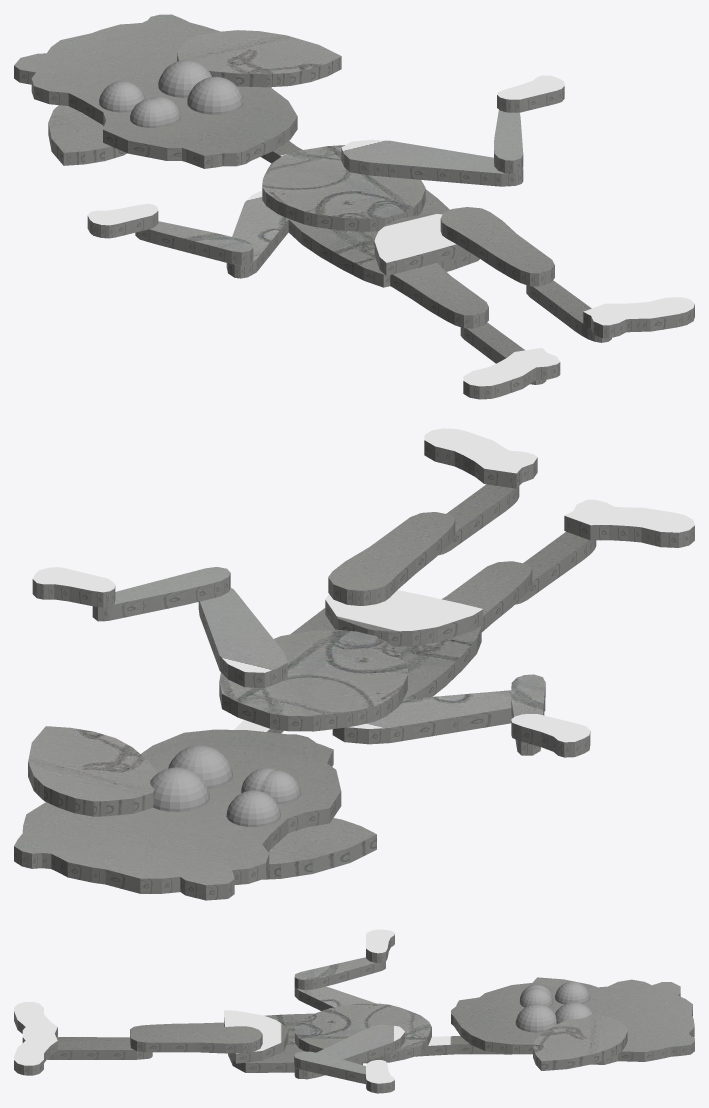
Rendered from Personas_Model.fbx.
3 views of the same model, one above another, from view 1: azimuth 30°, elevation 25°; view 2: azimuth 150°, elevation 25°; view 3: azimuth 270°, elevation 25° (orthographic). The views are drawn at different scales.
Visible parts, largest first — view 1: Cabeza_01, Torso_Upper, Coleta_R, Arm_R_Upper, Leg_R_Upper, Torso_Mid, Torso_Low, Leg_L_Upper, Foot_R, Foot_L, Coleta_L, Arm_L_Low (+12 smaller); view 2: Cabeza_01, Torso_Upper, Coleta_R, Leg_R_Upper, Torso_Low, Cabeza_03, Arm_L_Upper, Arm_R_Upper, Foot_L, Coleta_L, Foot_R, Torso_Mid (+12 smaller); view 3: Cabeza_01, Torso_Upper, Coleta_R, Leg_R_Upper, Arm_R_Upper, Torso_Low, Arm_L_Low, Leg_R_Low, Torso_Mid, Foot_R, Arm_R_Low, Cabeza_02 (+13 smaller).
Part boxes in pixels (box(x1,y1,x2,y2)): Cabeza_01: box(14, 14, 283, 160); Torso_Upper: box(262, 145, 425, 231); Coleta_R: box(177, 30, 341, 87); Arm_R_Upper: box(341, 139, 523, 186); Leg_R_Upper: box(440, 207, 554, 286); Torso_Mid: box(288, 189, 479, 287); Torso_Low: box(374, 213, 470, 275); Leg_L_Upper: box(390, 263, 488, 328); Foot_R: box(583, 297, 694, 338); Foot_L: box(463, 348, 560, 399); Coleta_L: box(48, 105, 126, 165); Arm_L_Low: box(135, 221, 253, 265); Cabeza_01: box(14, 736, 341, 900); Torso_Upper: box(219, 629, 407, 731); Coleta_R: box(28, 726, 157, 816); Leg_R_Upper: box(328, 512, 455, 605); Torso_Low: box(325, 590, 483, 646); Cabeza_03: box(127, 733, 328, 833); Arm_L_Upper: box(332, 690, 545, 744); Arm_R_Upper: box(198, 588, 287, 687); Foot_L: box(564, 499, 694, 547); Coleta_L: box(262, 818, 376, 879); Foot_R: box(424, 428, 537, 488); Torso_Mid: box(290, 608, 481, 699); Cabeza_01: box(468, 979, 694, 1064); Torso_Upper: box(295, 1003, 431, 1063); Coleta_R: box(533, 1014, 627, 1070); Leg_R_Upper: box(130, 1026, 262, 1053); Arm_R_Upper: box(294, 1024, 405, 1079); Torso_Low: box(224, 1010, 288, 1063); Arm_L_Low: box(294, 957, 385, 989); Leg_R_Low: box(47, 1041, 152, 1059); Torso_Mid: box(228, 1013, 362, 1072); Foot_R: box(14, 1030, 57, 1075); Arm_R_Low: box(294, 1051, 365, 1084); Cabeza_02: box(453, 994, 533, 1054).
Size of the model in its own units: 377 by 60 by 624.
4 materials, 3 textured.
